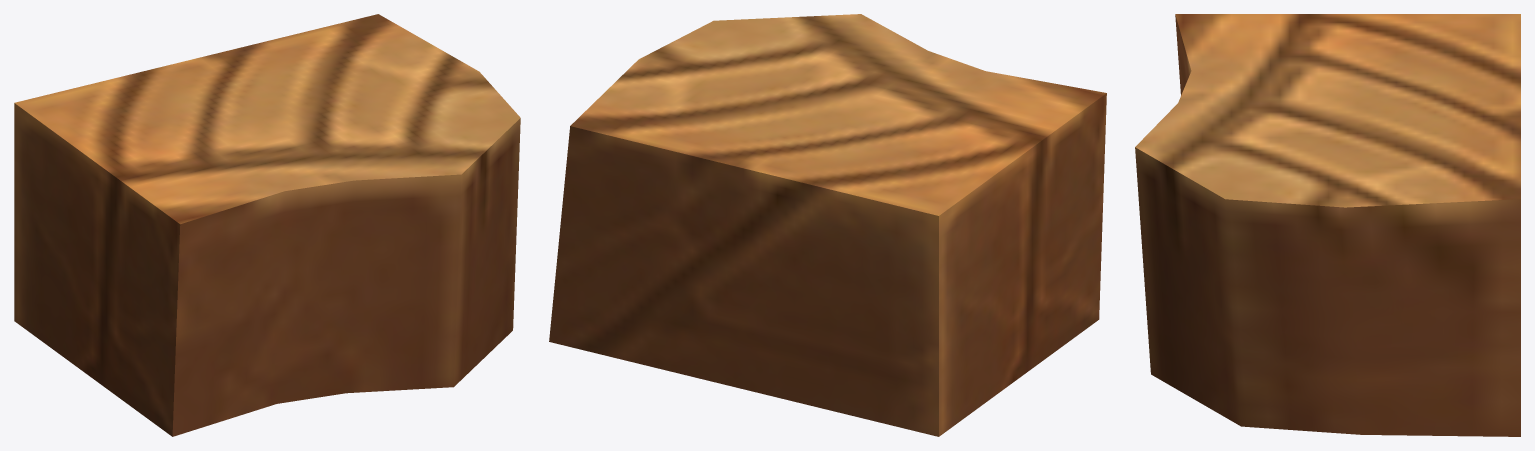
File: Stage_ShaMo_ZhuanKuai03.FBX
3 renders of one model, left to right at view 1: azimuth 30°, elevation 25°; view 2: azimuth 150°, elevation 25°; view 3: azimuth 270°, elevation 25°, orthographic. The views are drawn at different scales.
Visible parts, largest first — view 1: Stage_ShaMo_ZhuanKuai03; view 2: Stage_ShaMo_ZhuanKuai03; view 3: Stage_ShaMo_ZhuanKuai03.
Part boxes in pixels (bbox=[...]): Stage_ShaMo_ZhuanKuai03: bbox=[14, 14, 520, 436]; Stage_ShaMo_ZhuanKuai03: bbox=[549, 14, 1106, 436]; Stage_ShaMo_ZhuanKuai03: bbox=[1135, 14, 1520, 436].
Bounding box in the file's own units: 55.84 × 30.25 × 46.54.
